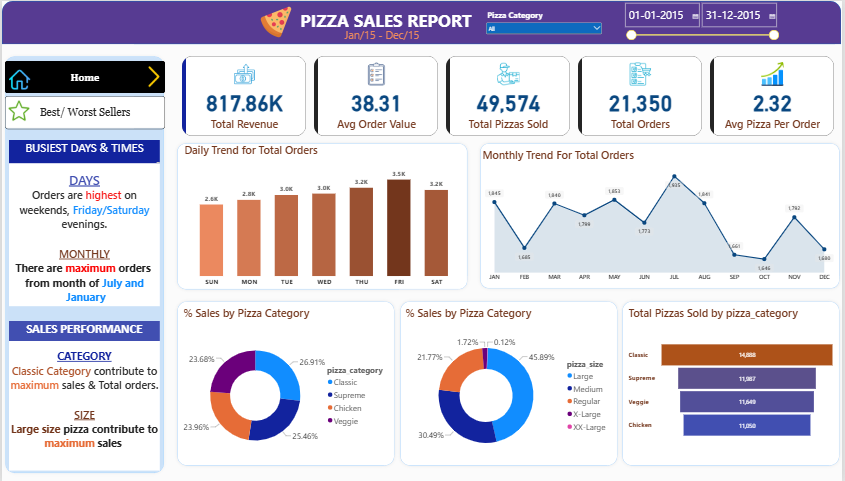

What the dashboard file says about the page in this screenshot:
{"tool":"powerbi","page":{"name":"Home","canvas":[2100,1200],"ordinal":0},"visuals":[{"type":"cardVisual","fields":{"Data":["pizza_sales.Total Revenue","pizza_sales.Avg Order Value","pizza_sales.Total Pizzas Sold","pizza_sales.Total Orders","pizza_sales.Avg Pizza Per Order"]},"box":[429.6,117.6,1670.4,240],"z":0},{"type":"shape","box":[0,0,2097.6,108],"z":1000},{"type":"textbox","box":[0,19.4,1920.2,88.6],"z":2000},{"type":"textbox","box":[542.2,64.8,814.3,43.2],"z":3000},{"type":"image","box":[635,13,99.4,79.9],"z":4000},{"type":"shape","box":[430.4,348,741.6,381.6],"z":5000},{"type":"columnChart","title":"Daily Trend for Total Orders ","fields":{"Category":["pizza_sales.Order Day"],"Y":["pizza_sales.Total Orders"]},"box":[439.2,340.8,732,393.6],"z":6000},{"type":"shape","box":[1186.4,348,914.4,379.2],"z":7000},{"type":"areaChart","title":"Monthly Trend For Total Orders ","fields":{"Category":["pizza_sales.Order Month"],"Y":["pizza_sales.Total Orders"]},"box":[1184,352.8,916.8,369.6],"z":8000},{"type":"shape","box":[430.4,741.6,559.2,427.2],"z":9000},{"type":"shape","box":[987.2,741.6,559.2,427.2],"z":10000},{"type":"shape","box":[1541.6,741.6,559.2,427.2],"z":11000},{"type":"donutChart","title":"% Sales by Pizza Category","fields":{"Category":["pizza_sales.pizza_category"],"Y":["pizza_sales.Total Revenue"]},"box":[437.6,746.4,547.2,427.2],"z":12000},{"type":"donutChart","title":"% Sales by Pizza Category","fields":{"Category":["pizza_sales.pizza_size"],"Y":["pizza_sales.Total Revenue"]},"box":[992,746.4,547.2,427.2],"z":13000},{"type":"funnel","fields":{"Category":["pizza_sales.pizza_category"],"Y":["pizza_sales.Total Pizzas Sold"]},"box":[1550.4,746.4,547.2,414],"z":14000},{"type":"shape","box":[0,129.6,412.8,1058.4],"z":15000},{"type":"textbox","box":[16.8,799.2,376.8,50.4],"z":16000},{"type":"textbox","box":[16.8,405.6,376.8,357.6],"z":17000},{"type":"textbox","box":[16.8,849.6,376.8,324],"z":18000},{"type":"textbox","title":"BUSIEST  DAYS & TIMES ","box":[16.8,348,376.8,57.6],"z":19000},{"type":"slicer","fields":{"Values":["pizza_sales.pizza_category"]},"box":[1204.8,19.2,300,300],"z":20000},{"type":"slicer","fields":{"Values":["pizza_sales.order_date"]},"box":[1550.4,0,396,108],"z":21000},{"type":"pageNavigator","box":[7.5,150,400,80],"z":22000},{"type":"pageNavigator","box":[7.5,237.5,400,82.5],"z":23000},{"type":"image","box":[330,162.5,100,52.5],"z":24000},{"type":"image","box":[17.5,162.5,52.5,67.5],"z":24001},{"type":"image","box":[7.5,247.5,70,52.5],"z":24002}]}

Visuals, with their boxes in screenshot pixels (x1, y1, x2, y2), scaled from the page's 2100x1200 canvas onto the 845x481 screenshot:
cardVisual - pizza_sales.Total Revenue x pizza_sales.Avg Order Value: select_region(173, 47, 844, 143)
shape: select_region(0, 0, 844, 43)
textbox: select_region(0, 8, 773, 43)
textbox: select_region(218, 26, 546, 43)
image: select_region(256, 5, 296, 37)
shape: select_region(173, 139, 472, 292)
"Daily Trend for Total Orders " columnChart: select_region(177, 137, 471, 294)
shape: select_region(477, 139, 844, 291)
"Monthly Trend For Total Orders " areaChart: select_region(476, 141, 844, 290)
shape: select_region(173, 297, 398, 468)
shape: select_region(397, 297, 622, 468)
shape: select_region(620, 297, 844, 468)
"% Sales by Pizza Category" donutChart: select_region(176, 299, 396, 470)
"% Sales by Pizza Category" donutChart: select_region(399, 299, 619, 470)
funnel - pizza_sales.pizza_category x pizza_sales.Total Pizzas Sold: select_region(624, 299, 844, 465)
shape: select_region(0, 52, 166, 476)
textbox: select_region(7, 320, 158, 341)
textbox: select_region(7, 163, 158, 306)
textbox: select_region(7, 341, 158, 470)
"BUSIEST  DAYS & TIMES " textbox: select_region(7, 139, 158, 163)
slicer - pizza_sales.pizza_category: select_region(485, 8, 606, 128)
slicer - pizza_sales.order_date: select_region(624, 0, 783, 43)
pageNavigator: select_region(3, 60, 164, 92)
pageNavigator: select_region(3, 95, 164, 128)
image: select_region(133, 65, 173, 86)
image: select_region(7, 65, 28, 92)
image: select_region(3, 99, 31, 120)
